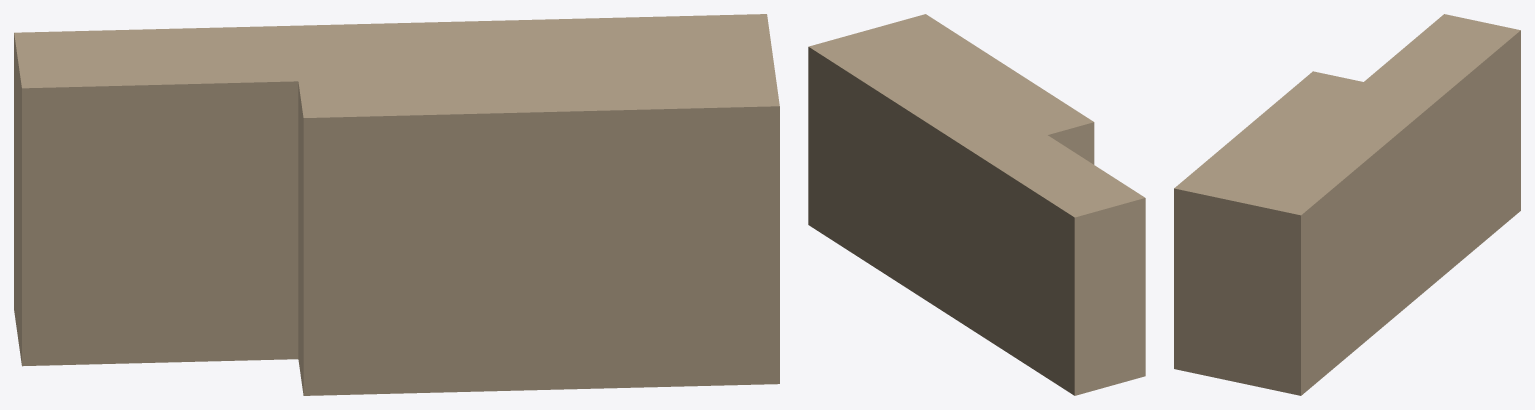
Rendered from bld_101374750.dae.
3 views of the same model, side by side, from view 1: azimuth 30°, elevation 25°; view 2: azimuth 150°, elevation 25°; view 3: azimuth 270°, elevation 25° (orthographic). The views are drawn at different scales.
Visible parts, largest first — view 1: bld_101374750; view 2: bld_101374750; view 3: bld_101374750.
Boxes of the visible parts, bbox=[...] form: bld_101374750: bbox=[14, 14, 779, 395]; bld_101374750: bbox=[808, 14, 1145, 395]; bld_101374750: bbox=[1174, 14, 1520, 395].
Bounding box in the file's own units: 19.14 × 13.93 × 8.
